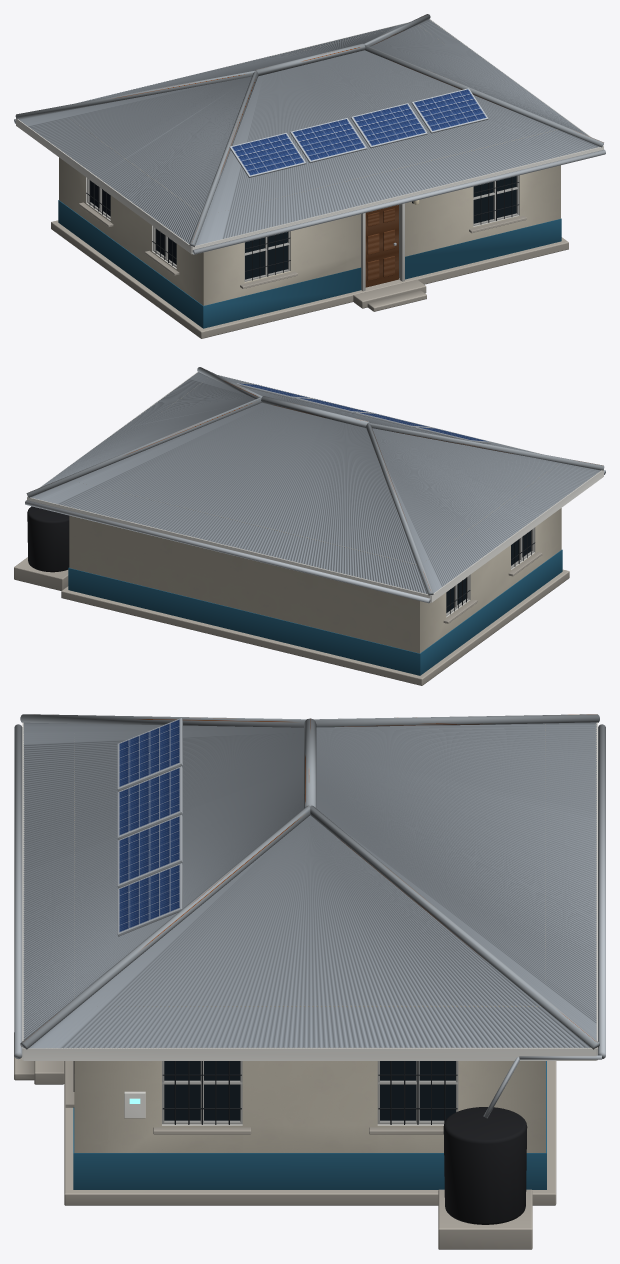
File: smart_house.glb
The picture shows the model from 3 angles, top to bottom: view 1: azimuth 30°, elevation 25°; view 2: azimuth 150°, elevation 25°; view 3: azimuth 270°, elevation 25°; orthographic projection. The views are drawn at different scales.
Parts seen in each view (by area): view 1: House, Window_R, Window_L; view 2: House; view 3: House.
Part boxes in pixels (bbox=[...]): House: bbox=[14, 14, 605, 338]; Window_R: bbox=[473, 176, 516, 223]; Window_L: bbox=[245, 232, 287, 279]; House: bbox=[14, 367, 605, 685]; House: bbox=[14, 714, 605, 1249].
Size of the model in its own units: 12.5 by 4.88 by 8.78.
18 materials, 4 textured.
